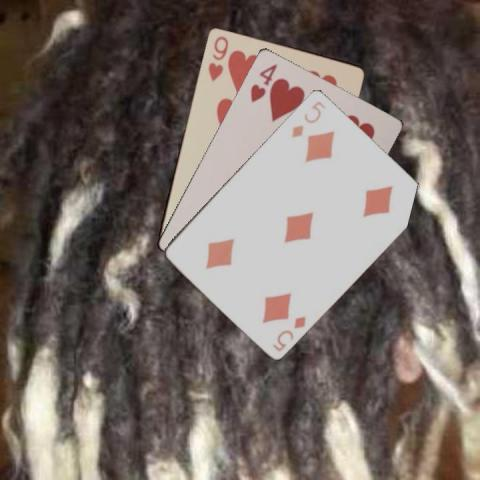4h: (246, 60, 278, 104)
5d: (288, 98, 327, 140), (270, 313, 308, 352)
9h: (205, 33, 230, 82)
